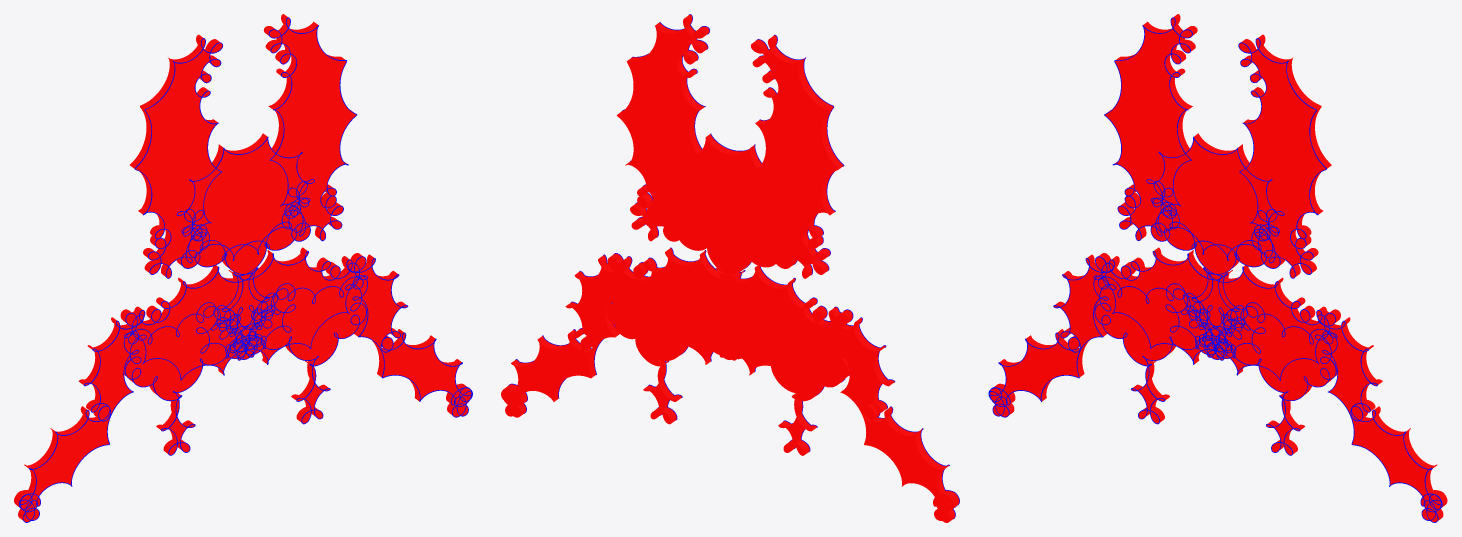
The picture shows the model from 3 angles, left to right: view 1: azimuth 30°, elevation 25°; view 2: azimuth 150°, elevation 25°; view 3: azimuth 330°, elevation 25°; orthographic projection.
Bounding box in the file's own units: 1 × 0.9314 × 0.0209.
